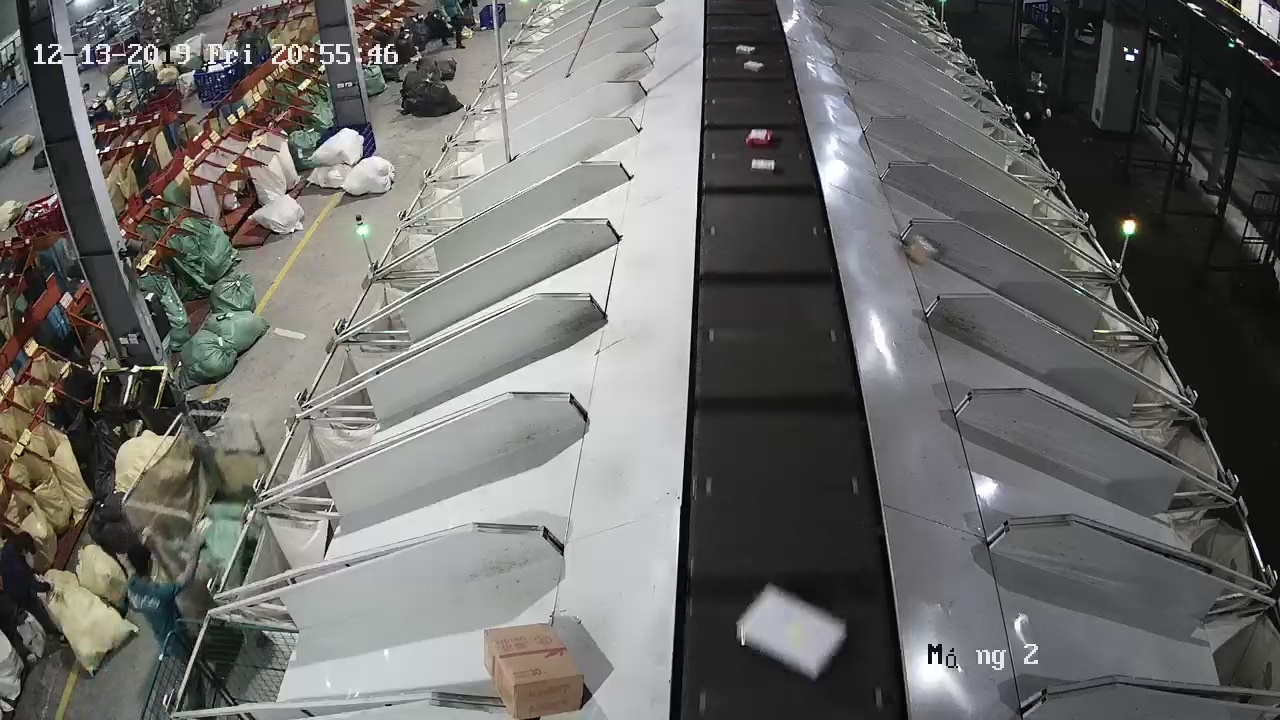parcel: (904, 234, 932, 265)
